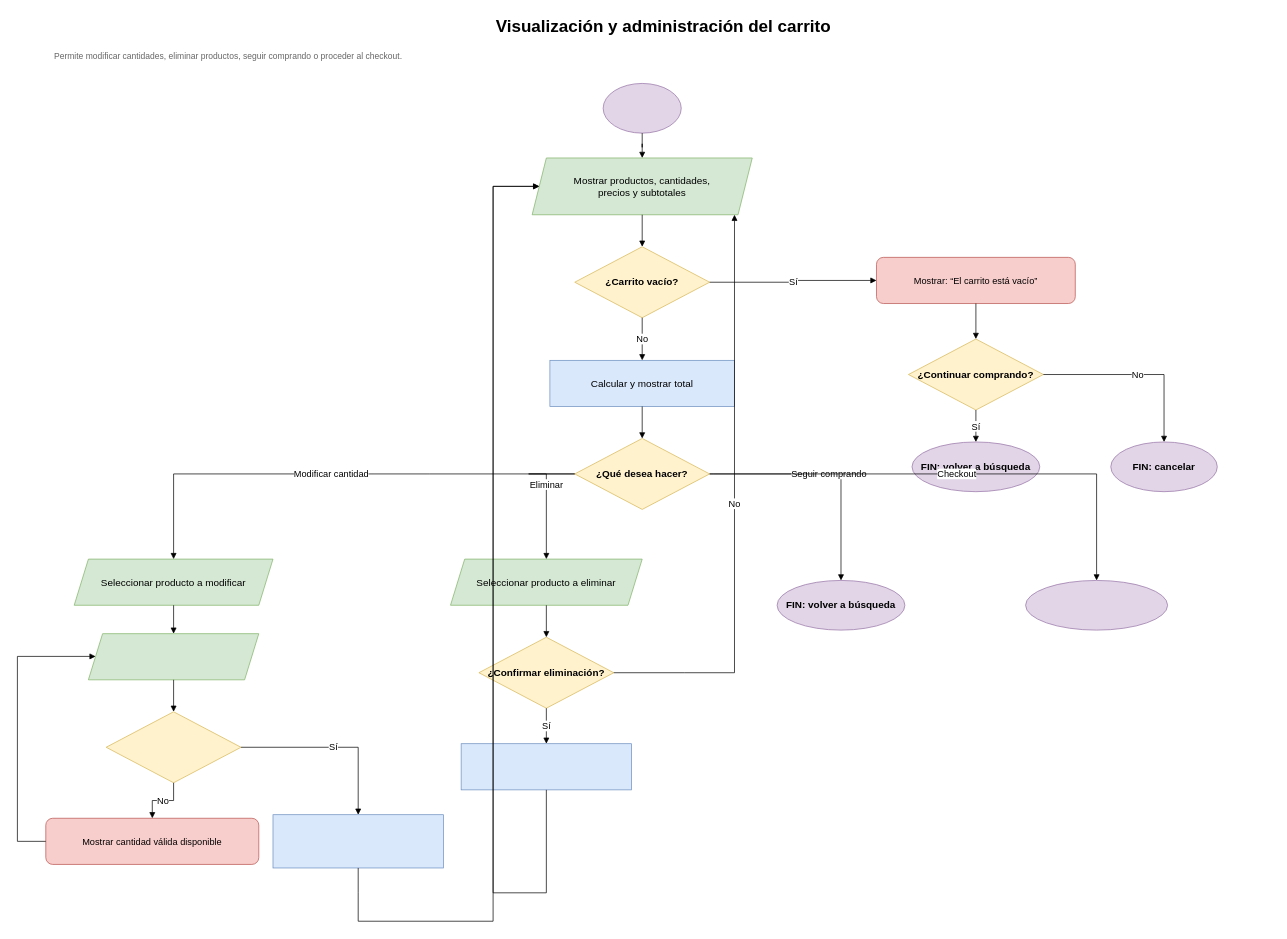
Image size: 1287x939. Some labels were removed from this diagram. Here are the shapes that lost their labels. From the top down, the centre of each, then its label:
At (641,108): "INICIO".
At (1096,605): "FIN: proceder a checkout".
At (173,656): "Ingresar nueva cantidad".
At (173,747): "¿Cantidad > 0 y ≤ existencia?".
At (546,766): "Eliminar producto del carrito".
At (357,841): "Actualizar cantidad, subtotal y total".
